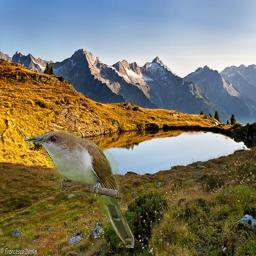Cuckoo: (24, 131, 134, 248)
